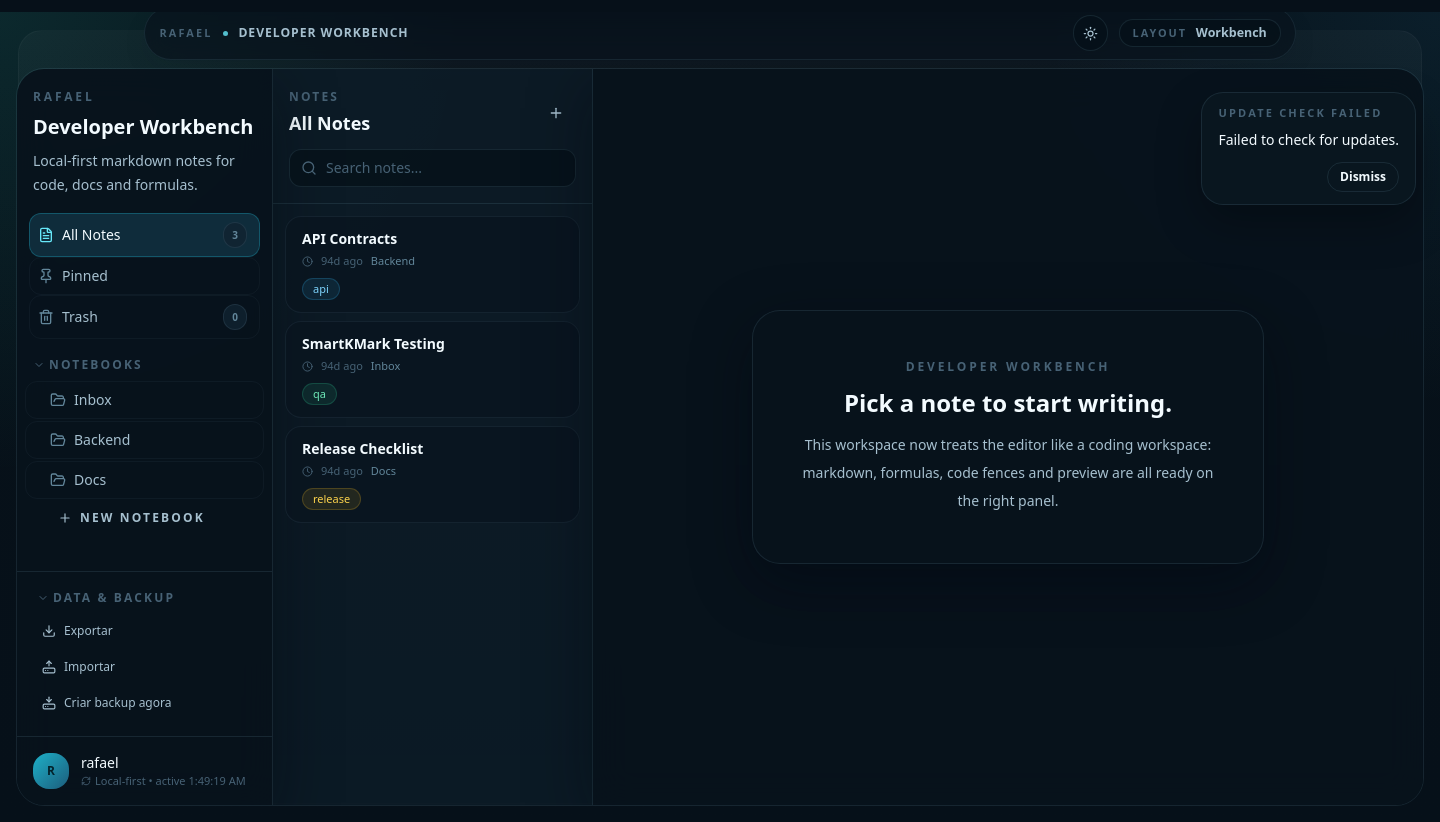
Test: App › shows a dismissible update error banner
expect the heading "Developer Workbench" is shown: met, box [33,113,256,141]
expect the text "Failed to check for updates." is shown: met, box [1218,130,1399,150]
Click the button "Dismiss": (1363, 176) [1327,162,1399,192]
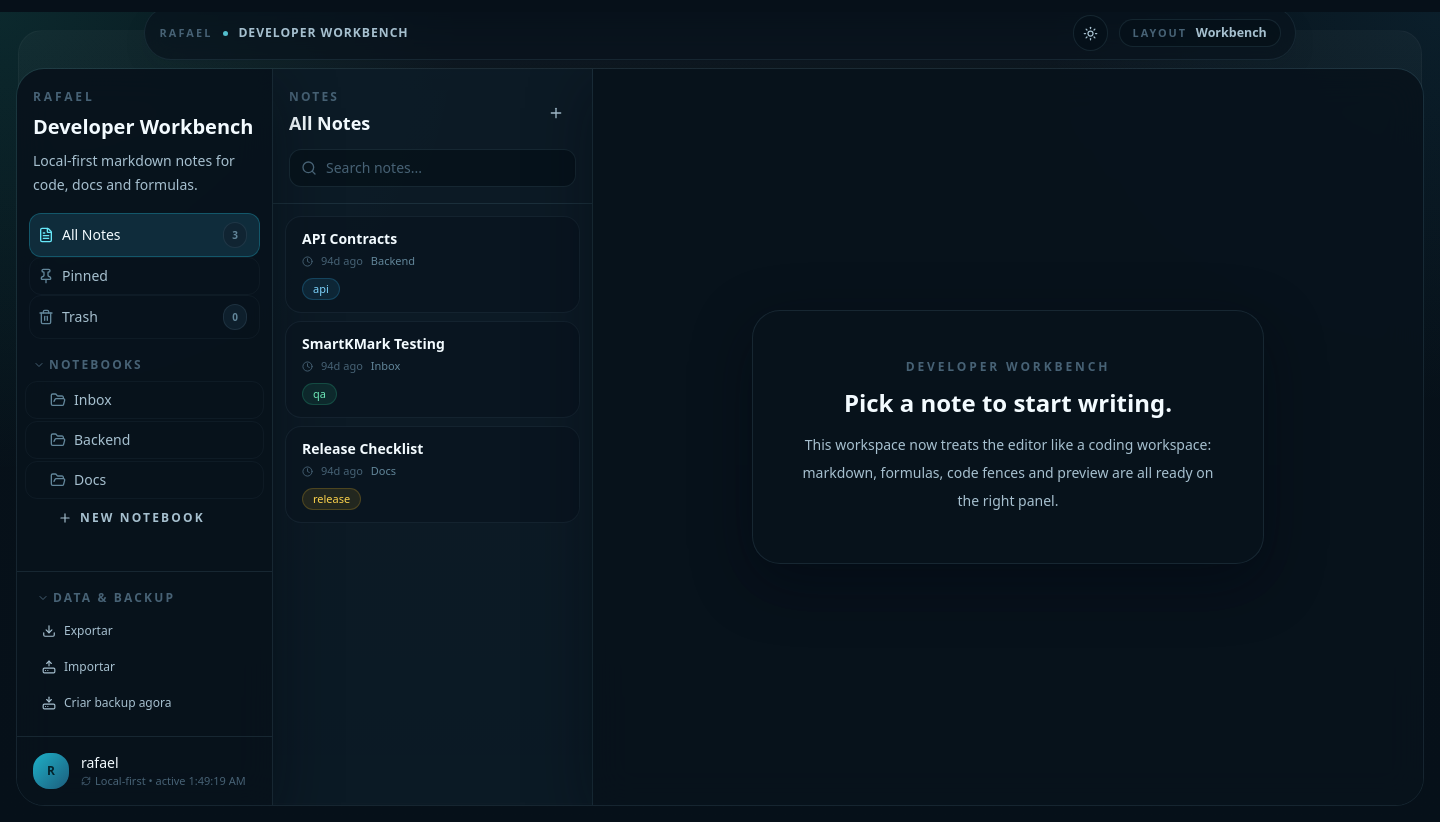
expect the text "Failed to check for updates." is gone: met
